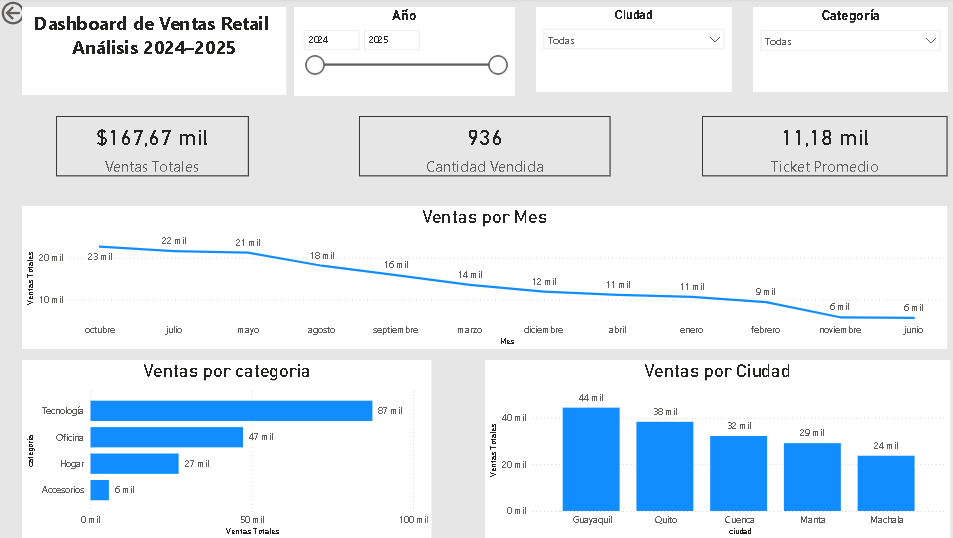

The dashboard page shown, as its layout file describes it:
{"tool":"powerbi","page":{"name":"D1","canvas":[1280,720],"ordinal":0},"visuals":[{"type":"lineChart","title":"Ventas por Mes","fields":{"Category":["Calendario.Mes"],"Y":["Calendario.Ventas Totales"]},"box":[32.2,276.6,1229.3,190.2],"z":0},{"type":"actionButton","box":[0,0,100,40],"z":1000},{"type":"barChart","title":"Ventas por categoria","fields":{"Category":["ventas.categoria"],"Y":["Calendario.Ventas Totales"]},"box":[32.2,481.5,544.4,238.5],"z":2000},{"type":"columnChart","title":"Ventas por Ciudad","fields":{"Category":["ventas.ciudad"],"Y":["Calendario.Ventas Totales"]},"box":[646.8,481.5,617.6,238.5],"z":3000},{"type":"card","title":"Ventas Totales","fields":{"Values":["Calendario.Ventas Totales"]},"box":[77.6,156.6,256.1,80.5],"z":4000},{"type":"card","title":"Unidades Vendidas","fields":{"Values":["Calendario.Cantidad Vendida"]},"box":[480,156.6,333.7,80.5],"z":5000},{"type":"card","title":"Tickets","fields":{"Values":["Calendario.Ticket Promedio"]},"box":[935.1,156.6,326.3,80.5],"z":6000},{"type":"slicer","title":"Año","fields":{"Values":["Calendario.Año"]},"box":[393.7,11.7,292.7,117.1],"z":7000},{"type":"slicer","title":"Ciudad","fields":{"Values":["ventas.ciudad"]},"box":[714.1,11.7,260.5,112.7],"z":8000},{"type":"slicer","title":"Categoría","fields":{"Values":["ventas.categoria"]},"box":[1002.4,11.7,259,112.7],"z":9000},{"type":"textbox","box":[32.2,11.7,351.2,117.1],"z":9001}]}

Visuals, with their boxes in screenshot pixels (x1, y1, x2, y2), scaled from the page's 1280x720 canvas onto the 953x538 screenshot:
"Ventas por Mes" lineChart: {"left": 24, "top": 207, "right": 939, "bottom": 349}
actionButton: {"left": 0, "top": 0, "right": 74, "bottom": 30}
"Ventas por categoria" barChart: {"left": 24, "top": 360, "right": 429, "bottom": 537}
"Ventas por Ciudad" columnChart: {"left": 482, "top": 360, "right": 941, "bottom": 537}
"Ventas Totales" card: {"left": 58, "top": 117, "right": 248, "bottom": 177}
"Unidades Vendidas" card: {"left": 357, "top": 117, "right": 606, "bottom": 177}
"Tickets" card: {"left": 696, "top": 117, "right": 939, "bottom": 177}
"Año" slicer: {"left": 293, "top": 9, "right": 511, "bottom": 96}
"Ciudad" slicer: {"left": 532, "top": 9, "right": 726, "bottom": 93}
"Categoría" slicer: {"left": 746, "top": 9, "right": 939, "bottom": 93}
textbox: {"left": 24, "top": 9, "right": 285, "bottom": 96}
